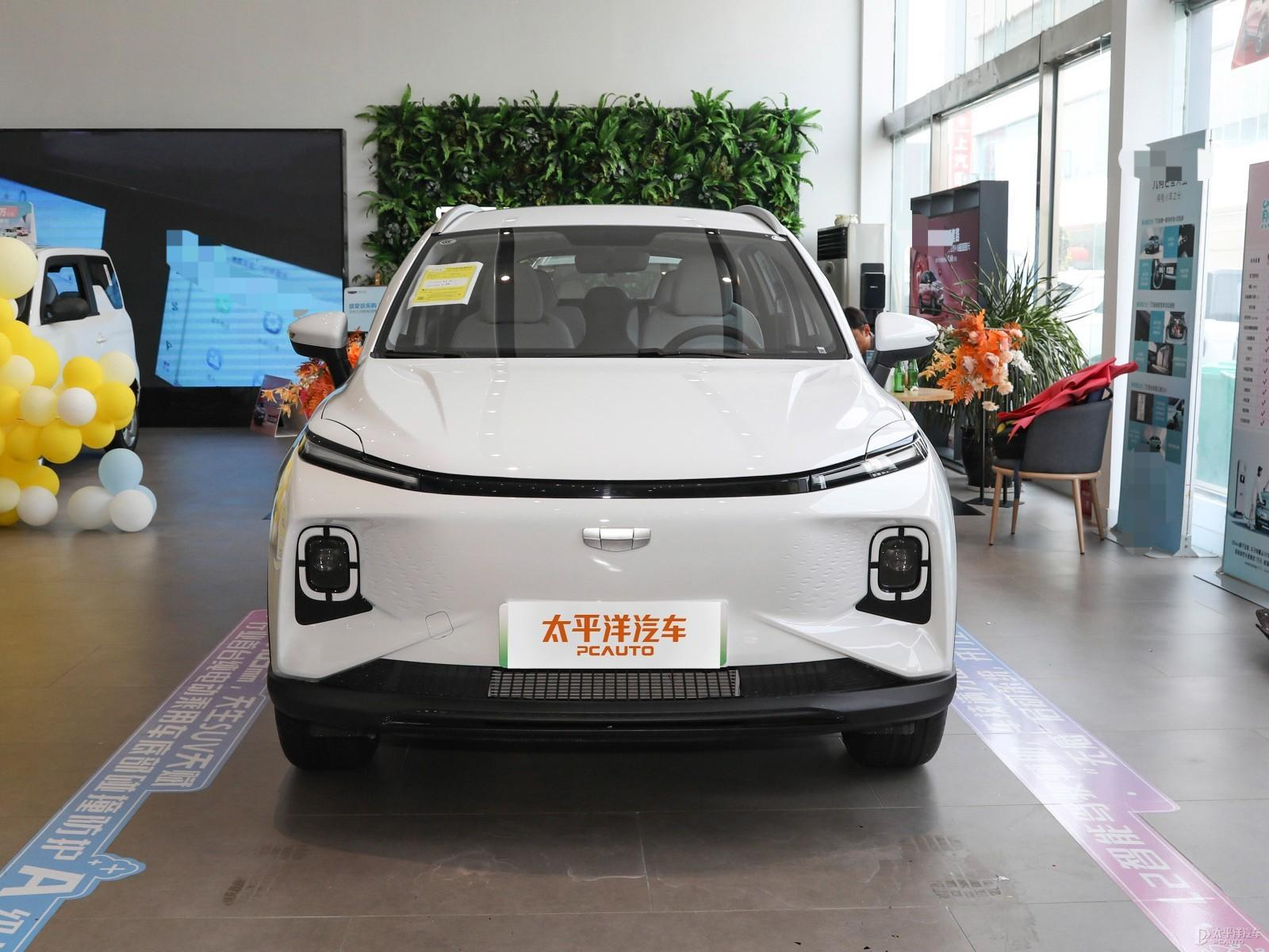GEOMETRY: (583, 528, 650, 551)
